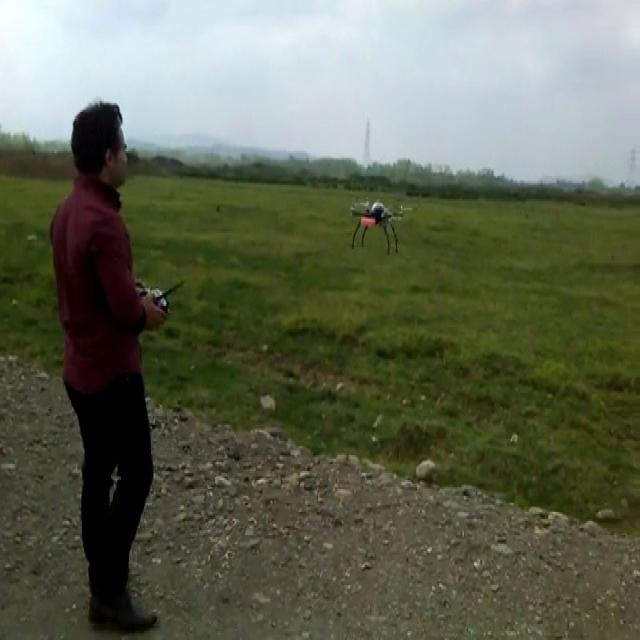drone: (346, 196, 421, 254)
